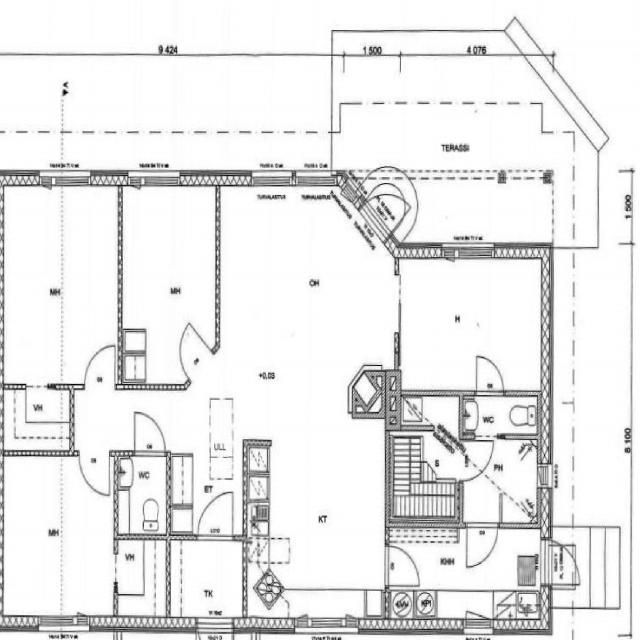door: (359, 170, 415, 243), (168, 322, 214, 382), (542, 540, 588, 584), (198, 489, 233, 540), (458, 440, 494, 480), (84, 344, 115, 390), (385, 546, 420, 585), (135, 411, 165, 456), (79, 451, 109, 495), (467, 523, 497, 567), (476, 355, 503, 396)
